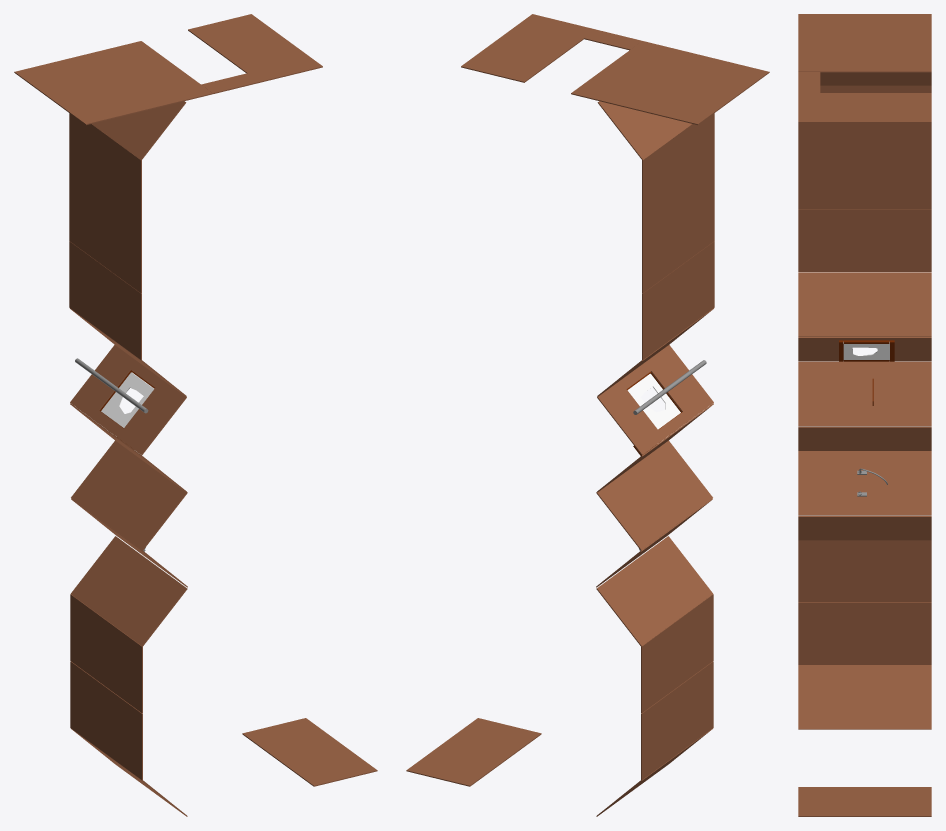
The model's file is SCTestBedWallCut.obj.
3 renders of one model, left to right at view 1: azimuth 30°, elevation 25°; view 2: azimuth 150°, elevation 25°; view 3: azimuth 270°, elevation 25°, orthographic. The views are drawn at different scales.
Visible parts, largest first — view 1: Box016, Box003, Box001, Box044, Box018, Box017, Box041, Box042, Box048, Box038, Box039, Box037 (+2 smaller); view 2: Box016, Box003, Box001, Box044, Box018, Box017, Box041, Box042, Box048, Box038, Box039, Box037 (+2 smaller); view 3: Box002, Box005, Box045, Box004, Box017, Box018, Box041, Box044, Box042, Box039, Box048, Box037 (+7 smaller).
Boxes of the visible parts, box(x1,y1,x2,y2) form: Box016: box(71, 536, 187, 646); Box003: box(71, 440, 187, 550); Box001: box(70, 345, 186, 454); Box044: box(70, 661, 142, 780); Box018: box(70, 594, 142, 712); Box017: box(69, 241, 141, 359); Box041: box(69, 174, 141, 293); Box042: box(69, 113, 141, 226); Box048: box(242, 718, 377, 786); Box038: box(14, 56, 149, 124); Box039: box(188, 14, 322, 82); Box037: box(78, 41, 212, 109); Box016: box(596, 536, 712, 646); Box003: box(596, 440, 712, 550); Box001: box(597, 345, 713, 454); Box044: box(641, 661, 713, 780); Box018: box(641, 594, 713, 712); Box017: box(642, 241, 714, 359); Box041: box(642, 174, 714, 293); Box042: box(642, 113, 714, 226); Box048: box(406, 718, 541, 786); Box038: box(634, 56, 769, 124); Box039: box(461, 14, 595, 82); Box037: box(571, 41, 705, 109); Box002: box(798, 361, 931, 426); Box005: box(798, 272, 931, 336); Box045: box(798, 665, 931, 729); Box004: box(798, 451, 931, 515); Box017: box(798, 209, 931, 271); Box018: box(798, 540, 931, 602); Box041: box(798, 147, 931, 209); Box044: box(798, 602, 931, 664); Box042: box(798, 85, 931, 147); Box039: box(798, 93, 931, 122); Box048: box(798, 787, 931, 816); Box037: box(798, 43, 931, 72).
Size of the model in its own units: 5.73 by 13.49 by 2.44.
